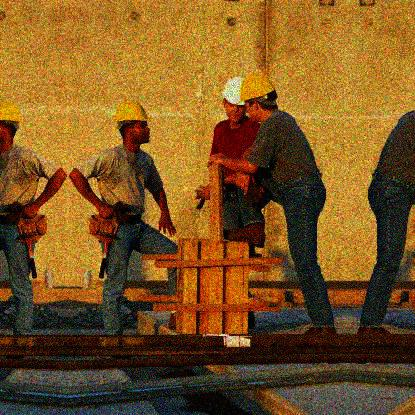helmet: (109, 96, 150, 141), (242, 73, 276, 120), (224, 76, 242, 125), (1, 104, 21, 145)
